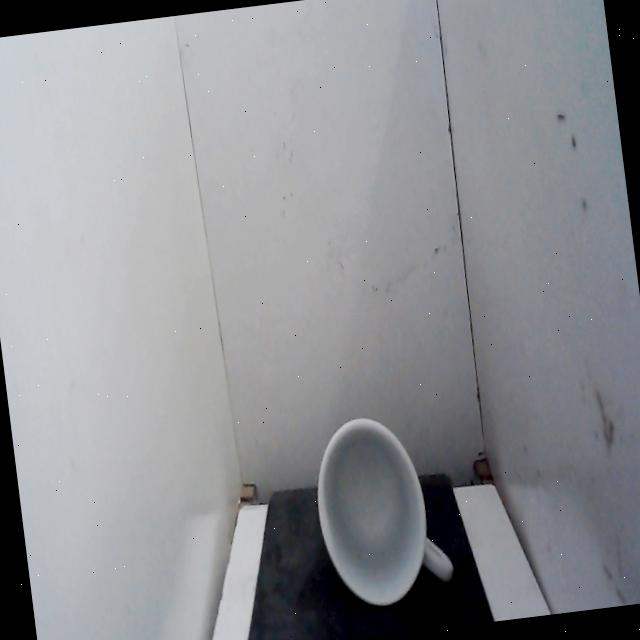vidro: (296, 391, 462, 625)
